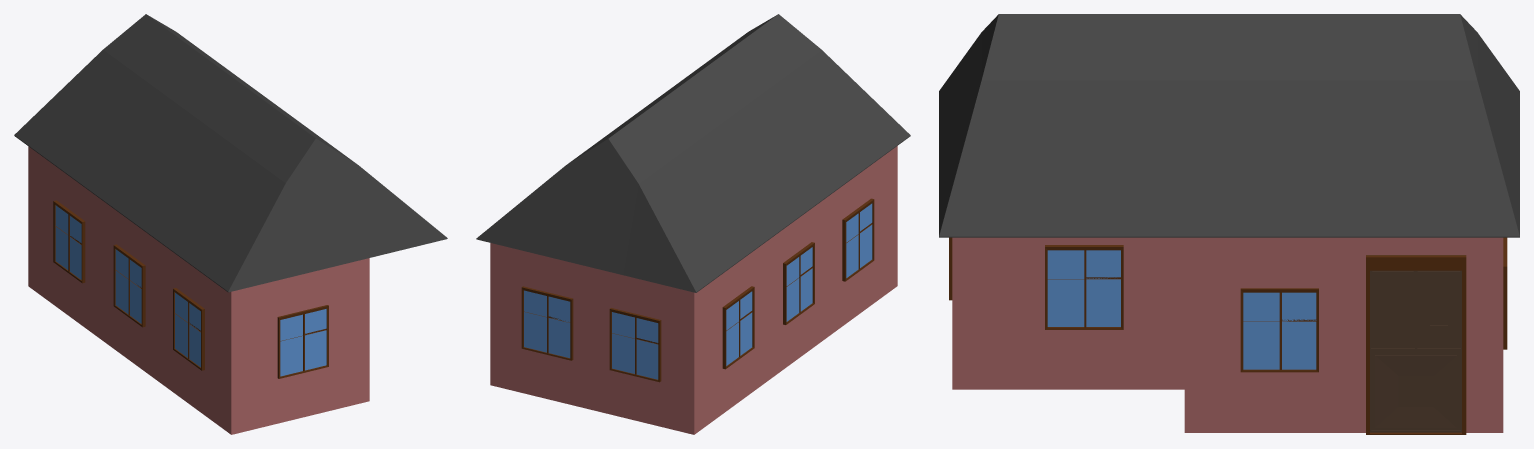
File: house2TS.fbx
The picture shows the model from 3 angles, left to right: view 1: azimuth 30°, elevation 25°; view 2: azimuth 150°, elevation 25°; view 3: azimuth 270°, elevation 25°; orthographic projection. The views are drawn at different scales.
Visible parts, largest first — view 1: Cube.001, Cube, Cube.007, Cube.005, Cube.006, Cube.004; view 2: Cube.001, Cube, Cube.009, Cube.008, Cube.004, Cube.006, Cube.005; view 3: Cube.001, Cube, Cube.057, Cube.002, Cube.003, Cube.009.
Boxes of the visible parts, bbox=[...] form: Cube.001: bbox=[14, 14, 447, 292]; Cube: bbox=[28, 146, 369, 434]; Cube.007: bbox=[277, 305, 328, 378]; Cube.005: bbox=[113, 244, 145, 327]; Cube.006: bbox=[53, 200, 85, 283]; Cube.004: bbox=[173, 288, 204, 370]; Cube.001: bbox=[476, 14, 910, 292]; Cube: bbox=[490, 146, 897, 434]; Cube.009: bbox=[521, 286, 573, 360]; Cube.008: bbox=[609, 308, 661, 382]; Cube.004: bbox=[842, 198, 874, 281]; Cube.006: bbox=[722, 286, 754, 369]; Cube.005: bbox=[783, 242, 814, 324]; Cube.001: bbox=[939, 14, 1519, 237]; Cube: bbox=[952, 237, 1503, 432]; Cube.057: bbox=[1366, 255, 1466, 434]; Cube.002: bbox=[1045, 245, 1123, 329]; Cube.003: bbox=[1240, 288, 1318, 372]; Cube.009: bbox=[1503, 237, 1507, 349].
Size of the model in its own units: 461 by 520 by 778.
